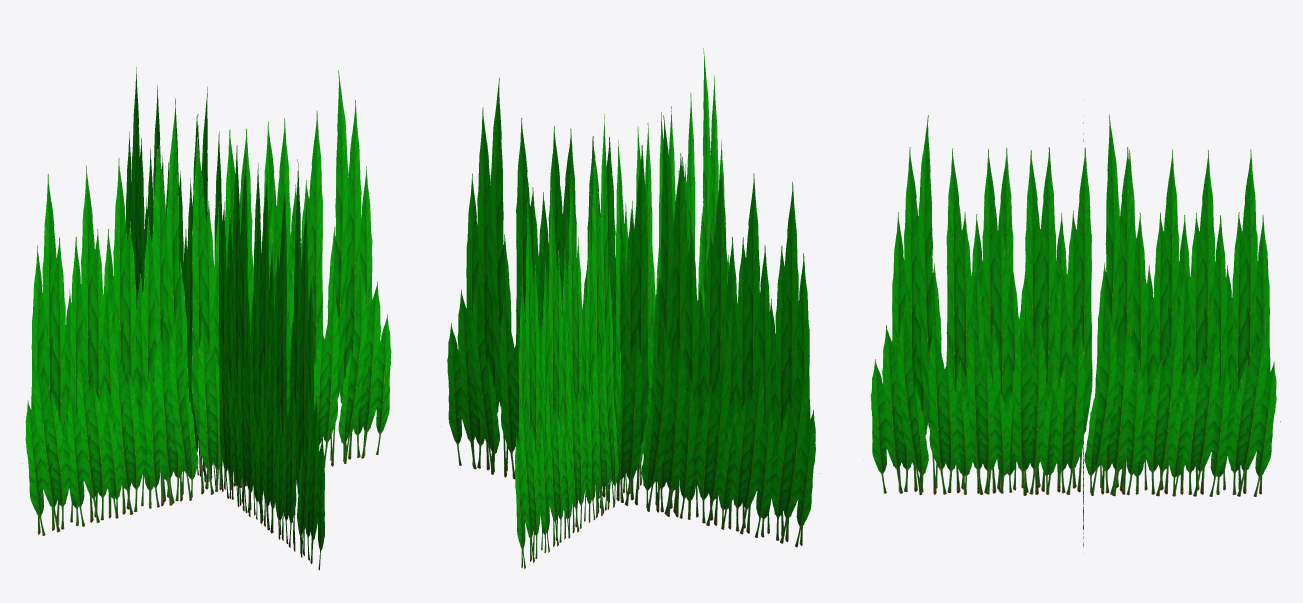
File: GrassType1.fbx
3 renders of one model, left to right at view 1: azimuth 30°, elevation 25°; view 2: azimuth 150°, elevation 25°; view 3: azimuth 270°, elevation 25°, orthographic. The views are drawn at different scales.
Parts seen in each view (by area): view 1: Plane; view 2: Plane; view 3: Plane.
Boxes of the visible parts, left/top/right/bottom form: Plane: left=22, top=67, right=391, bottom=570; Plane: left=440, top=48, right=819, bottom=568; Plane: left=863, top=99, right=1280, bottom=553.
Size of the model in its own units: 200 by 200 by 200.
Materials: 1 (1 with a texture image).
